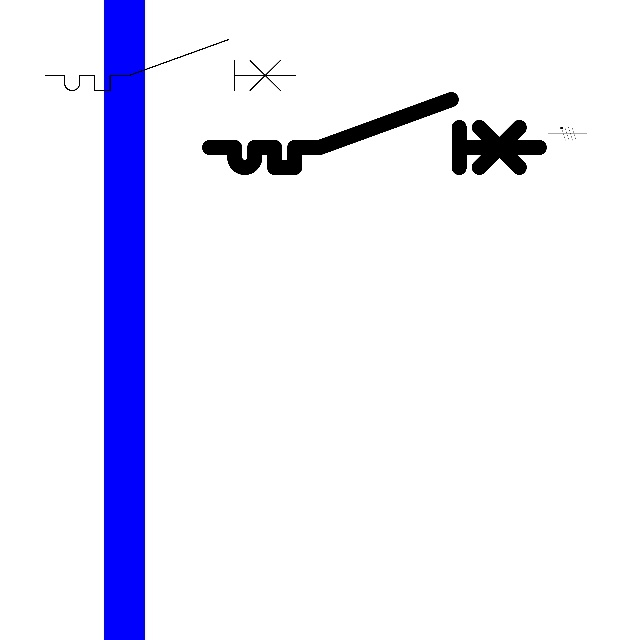interruptor_termomagnetico: (201, 91, 548, 176), (39, 33, 302, 97)
